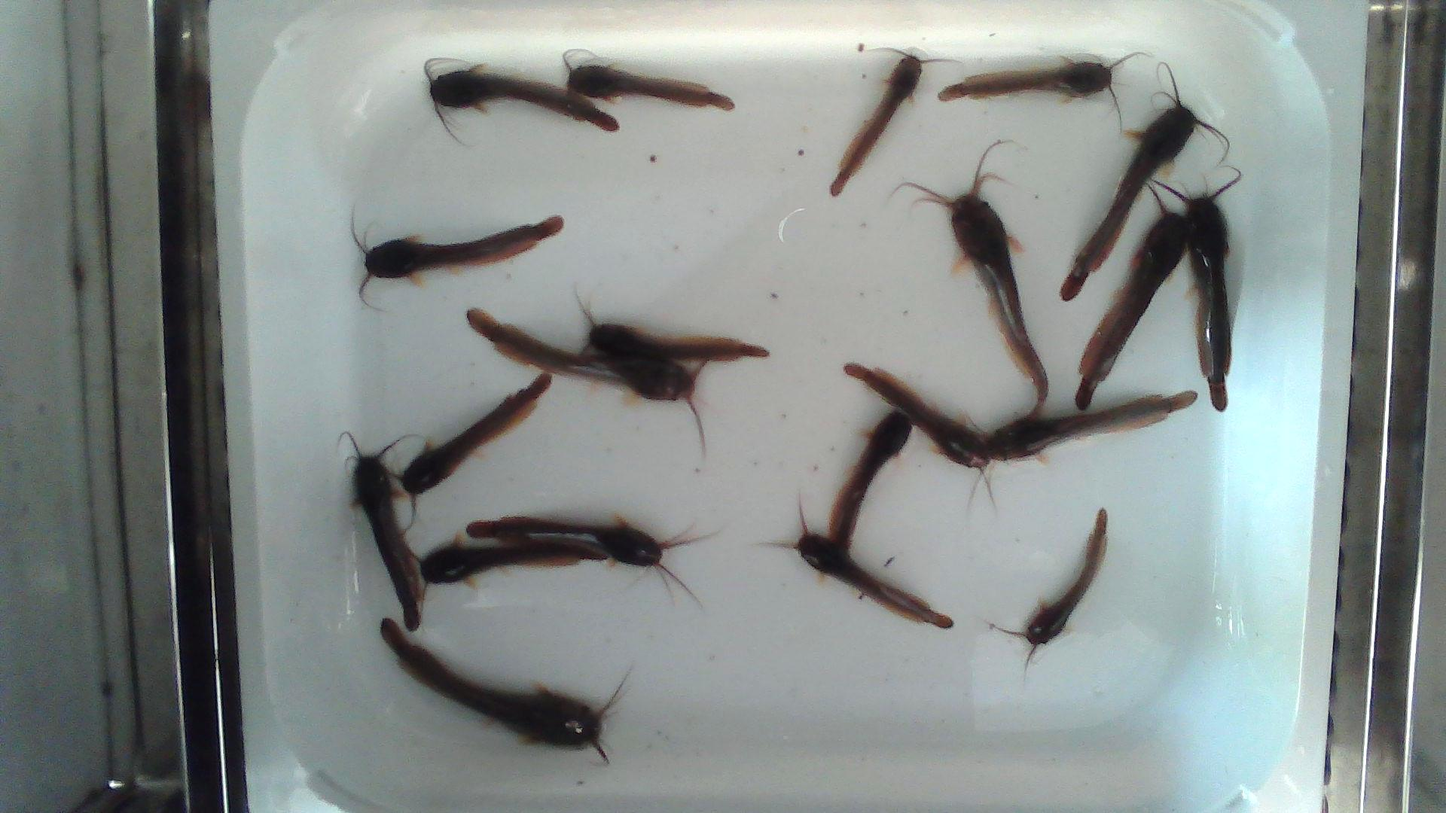lele: (897, 150, 1052, 417), (1060, 65, 1233, 301), (381, 617, 633, 768), (466, 307, 712, 456), (964, 391, 1200, 517), (389, 372, 552, 530), (758, 496, 955, 626), (1076, 184, 1189, 410), (843, 361, 1001, 509), (986, 506, 1106, 682), (1157, 170, 1244, 412), (350, 208, 564, 305), (466, 517, 714, 599), (832, 49, 960, 196), (424, 57, 623, 146), (338, 430, 421, 629), (940, 52, 1145, 128), (575, 290, 769, 366), (829, 411, 914, 551), (558, 48, 735, 111), (412, 544, 586, 606)
